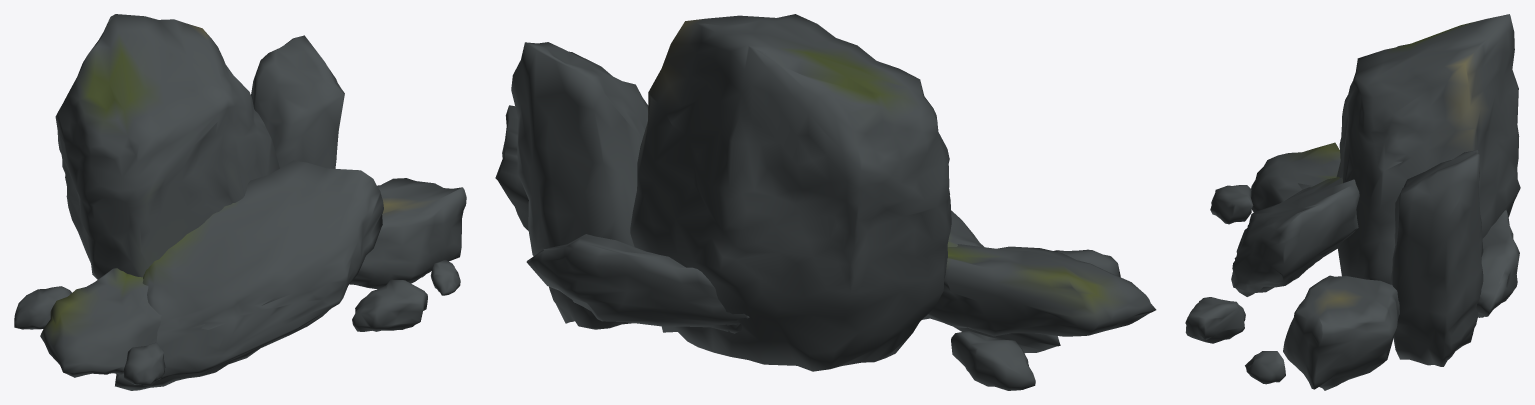
The model's file is basalt-group-43ef6e5a.glb.
3 renders of one model, left to right at view 1: azimuth 30°, elevation 25°; view 2: azimuth 150°, elevation 25°; view 3: azimuth 270°, elevation 25°, orthographic. The views are drawn at different scales.
Visible parts, largest first — view 1: Basalt crest 08; view 2: Basalt crest 08; view 3: Basalt crest 08.
Part boxes in pixels (<box>): Basalt crest 08: <box>14,14,466,390</box>; Basalt crest 08: <box>495,14,1156,390</box>; Basalt crest 08: <box>1185,14,1520,390</box>.
Size of the model in its own units: 4.93 by 3.02 by 3.18.
